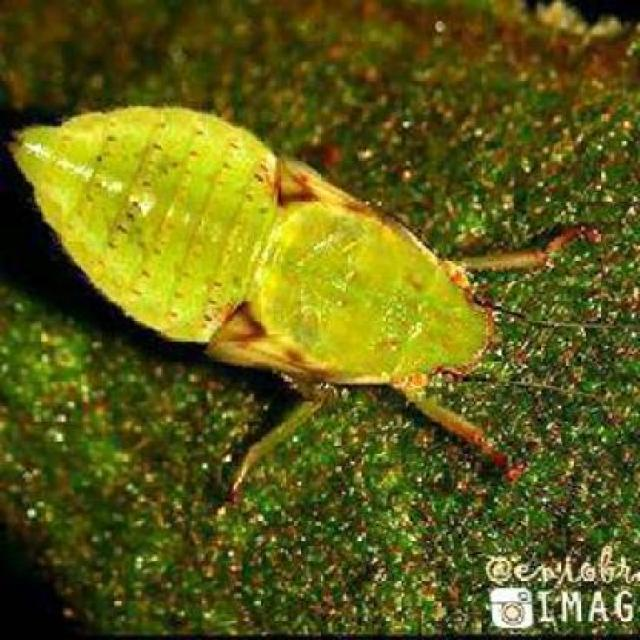green-leafhopper: (10, 105, 611, 504)
